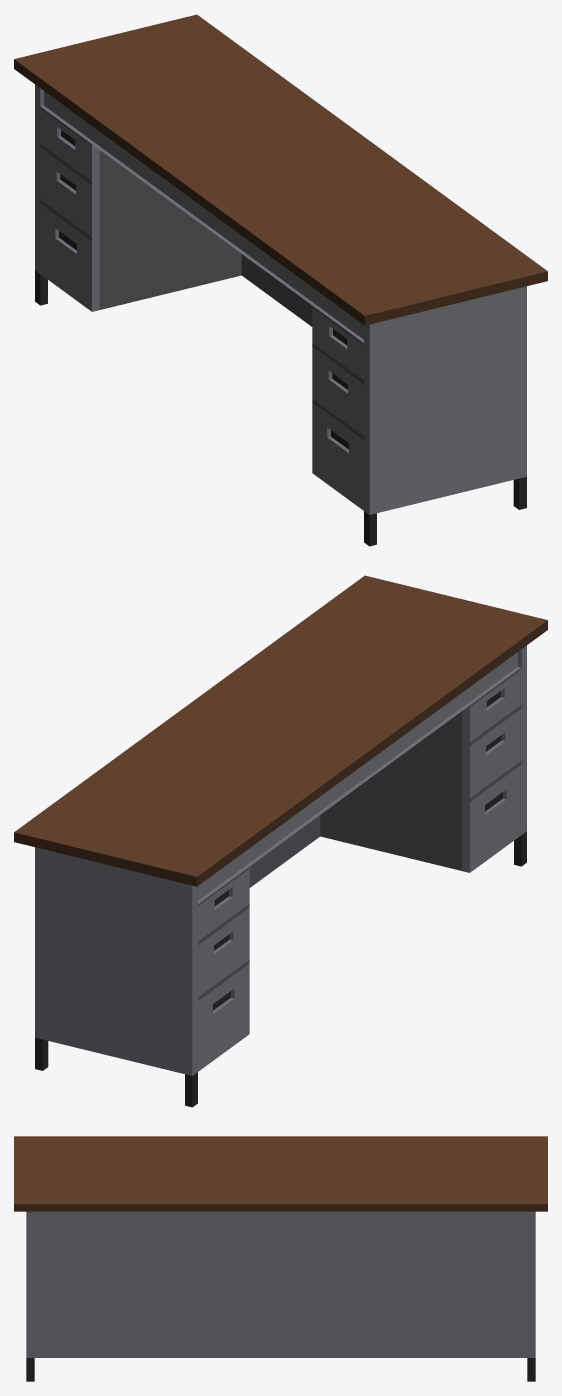
File: Desk.fbx
3 renders of one model, top to bottom at view 1: azimuth 30°, elevation 25°; view 2: azimuth 150°, elevation 25°; view 3: azimuth 270°, elevation 25°, orthographic. The views are drawn at different scales.
Visible parts, largest first — view 1: Desk_Cube.024; view 2: Desk_Cube.024; view 3: Desk_Cube.024.
Part boxes in pixels (box(x1,y1,x2,y2)): Desk_Cube.024: box(14, 14, 547, 546); Desk_Cube.024: box(14, 575, 547, 1107); Desk_Cube.024: box(14, 1136, 547, 1381).
Bounding box in the file's own units: 95.9 × 318 × 120.
